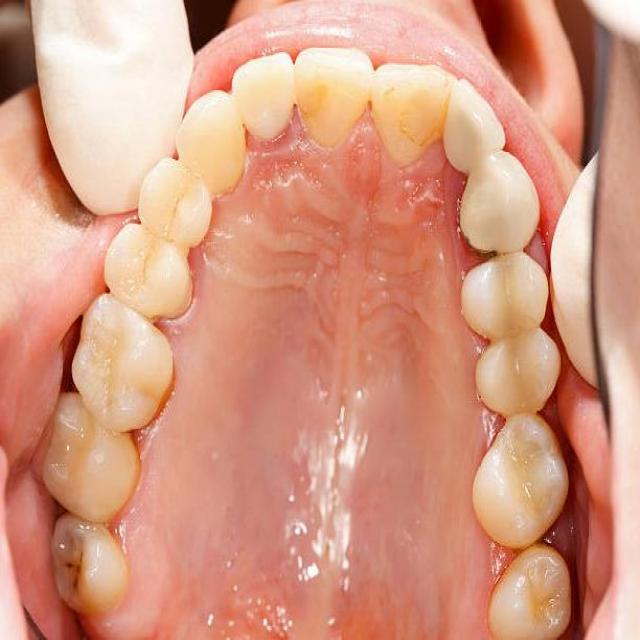caries: (56, 538, 95, 596)
